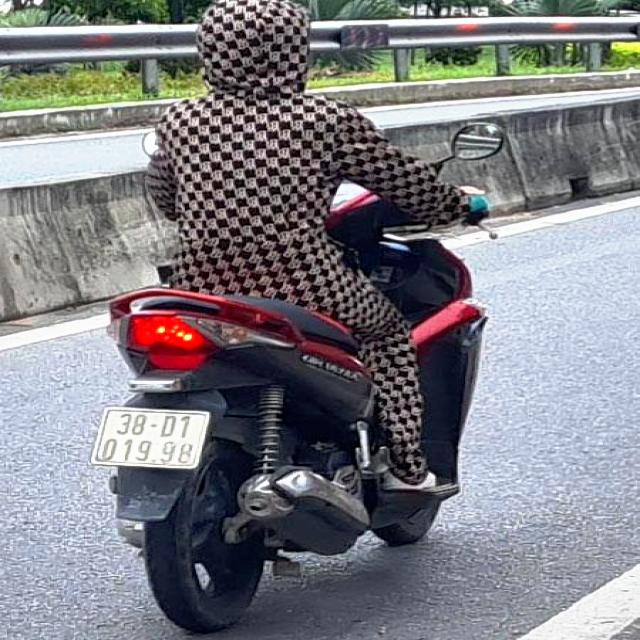license_plate: (91, 408, 209, 469)
